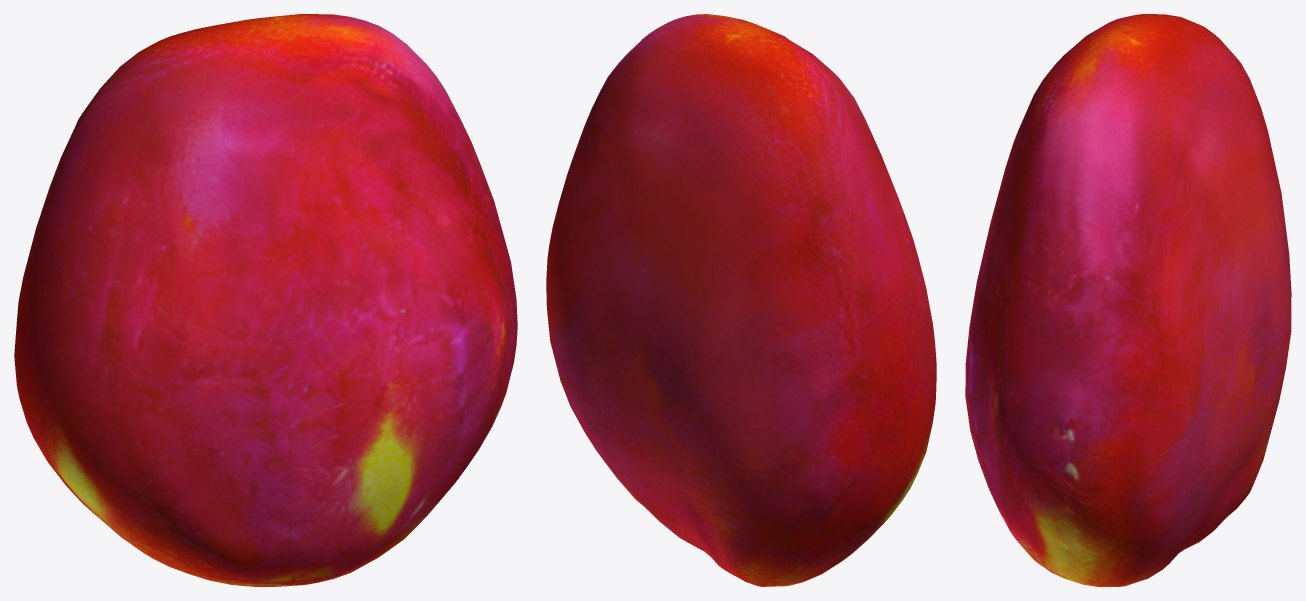
The model's file is PomegranateSeed.glb.
The picture shows the model from 3 angles, left to right: view 1: azimuth 30°, elevation 25°; view 2: azimuth 150°, elevation 25°; view 3: azimuth 270°, elevation 25°; orthographic projection. The views are drawn at different scales.
Bounding box in the file's own units: 1.65 × 1.99 × 1.14.
Materials: 1 (1 with a texture image).
